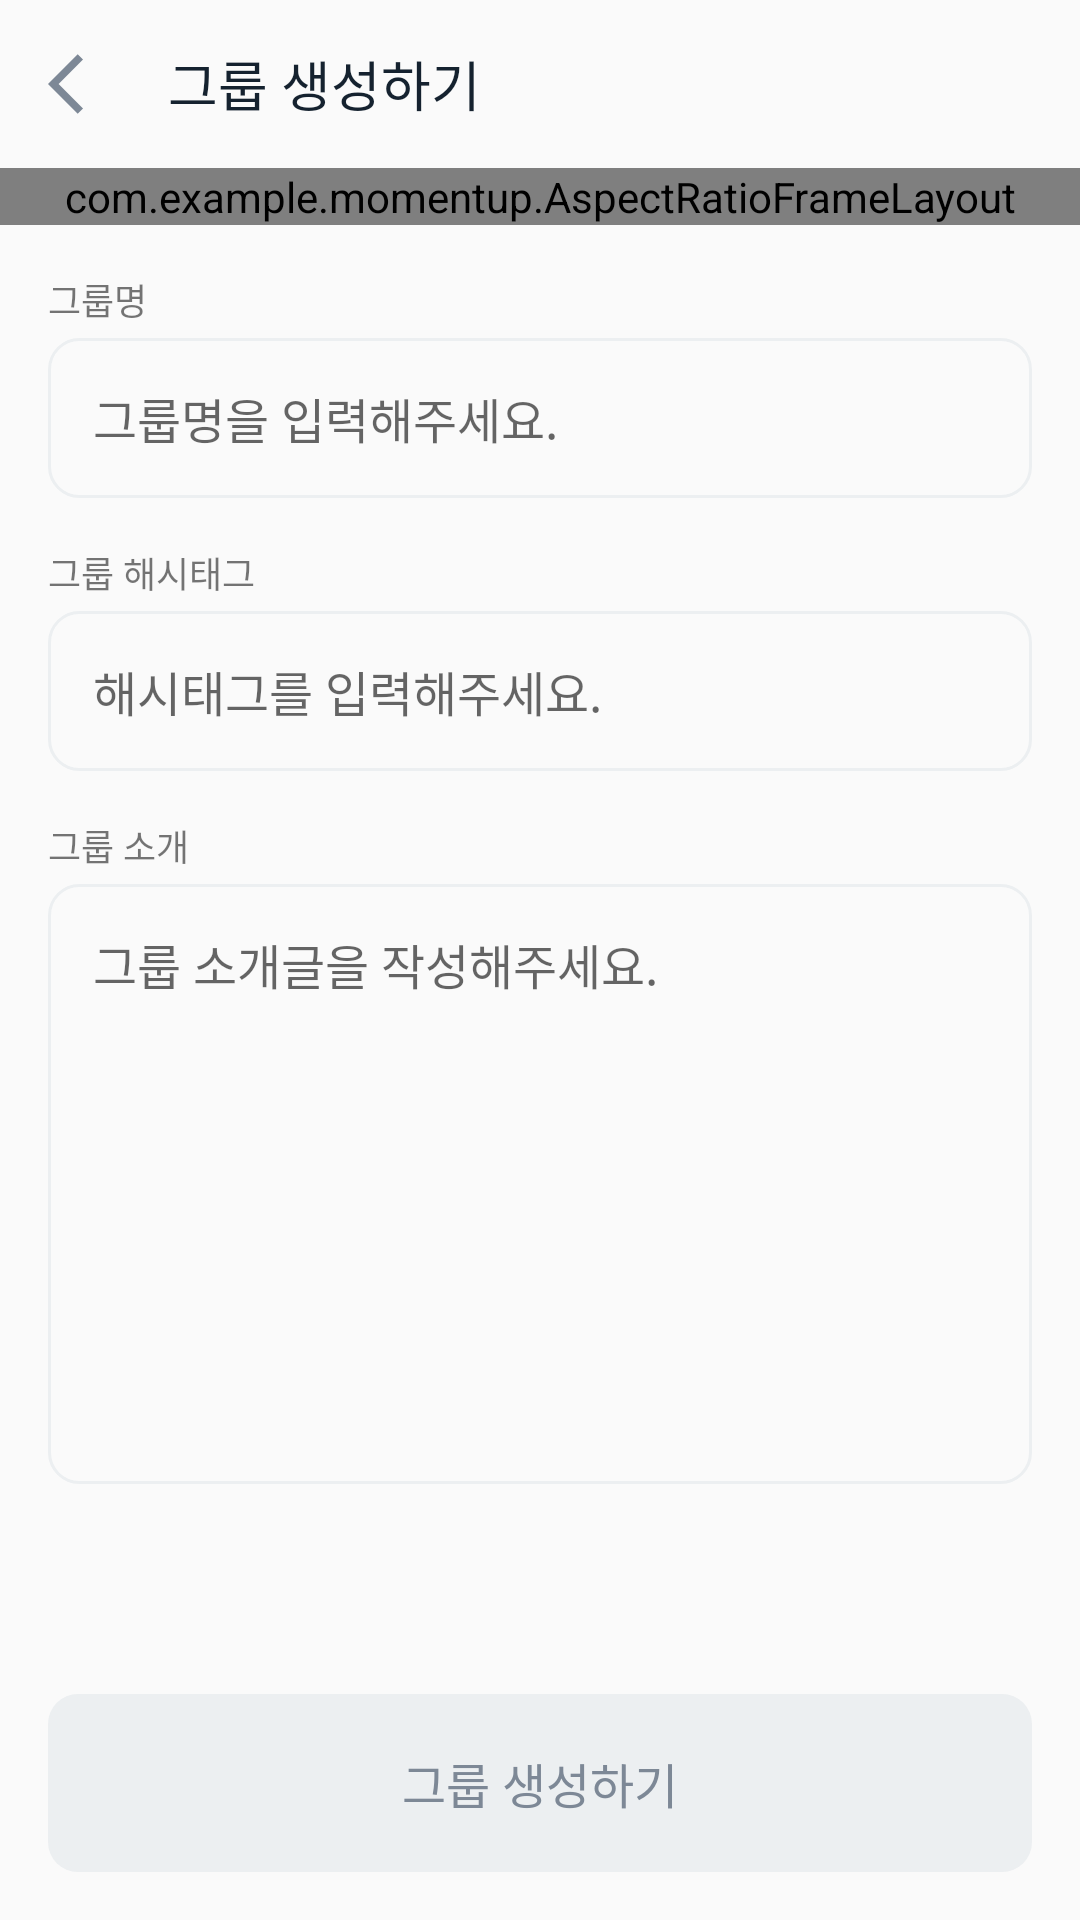

Where icons sit on this 1080x1920 app screen, as (x1, y1, x2, y2):
arrow back mono: (48, 54, 83, 114)
